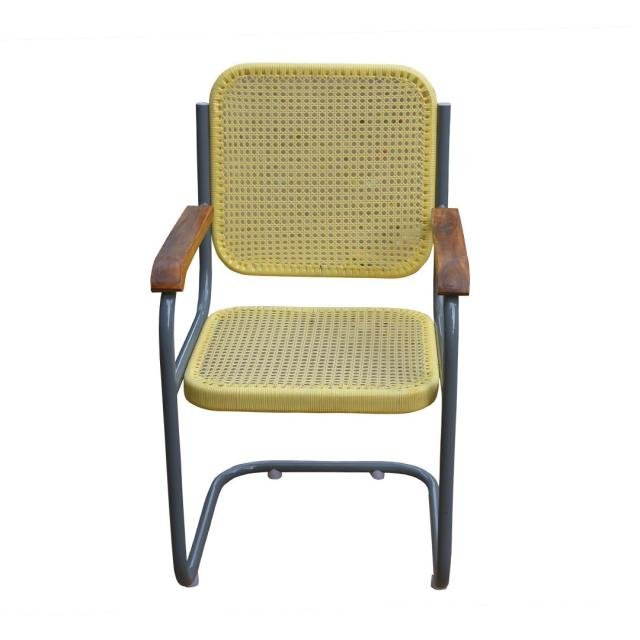chair: (150, 62, 470, 590)
